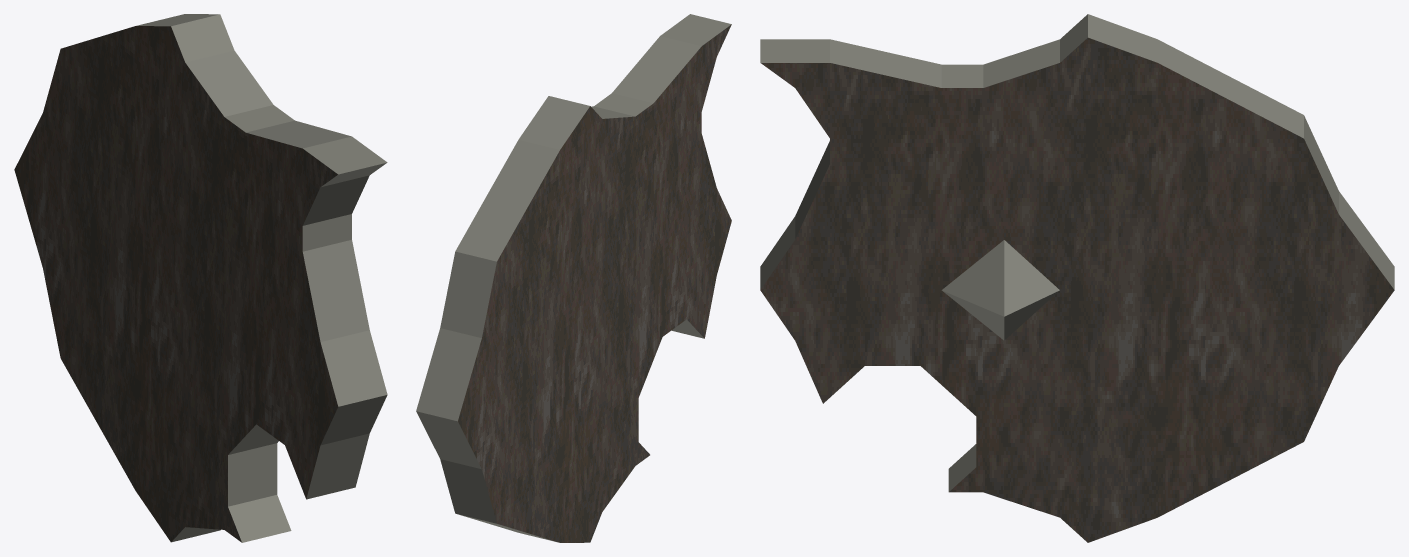
The picture shows the model from 3 angles, left to right: view 1: azimuth 30°, elevation 25°; view 2: azimuth 150°, elevation 25°; view 3: azimuth 270°, elevation 25°; orthographic projection. The views are drawn at different scales.
Size of the model in its own units: 17 by 80 by 91.
2 materials, 2 textured.
